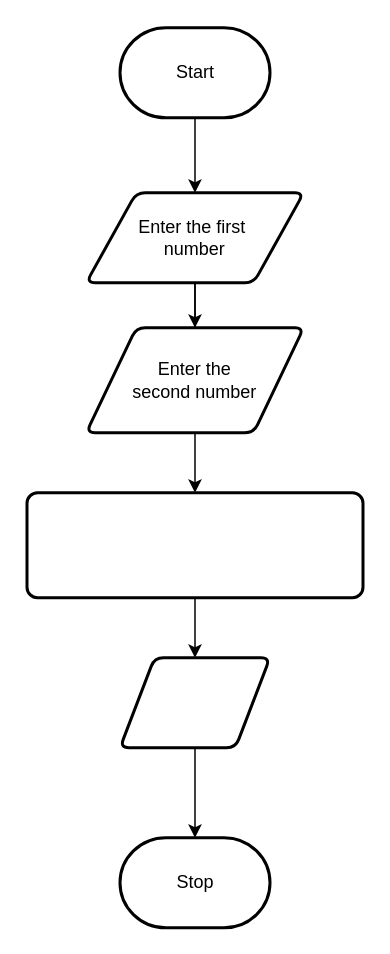
Some shapes in this 390 by 954 pixel diagram are drawn without their labels. Here are the shapes that lost their labels. From the top down, the centre of each, then its label:
the point at 194,544: total = #1 + #2
the point at 194,702: Show total
